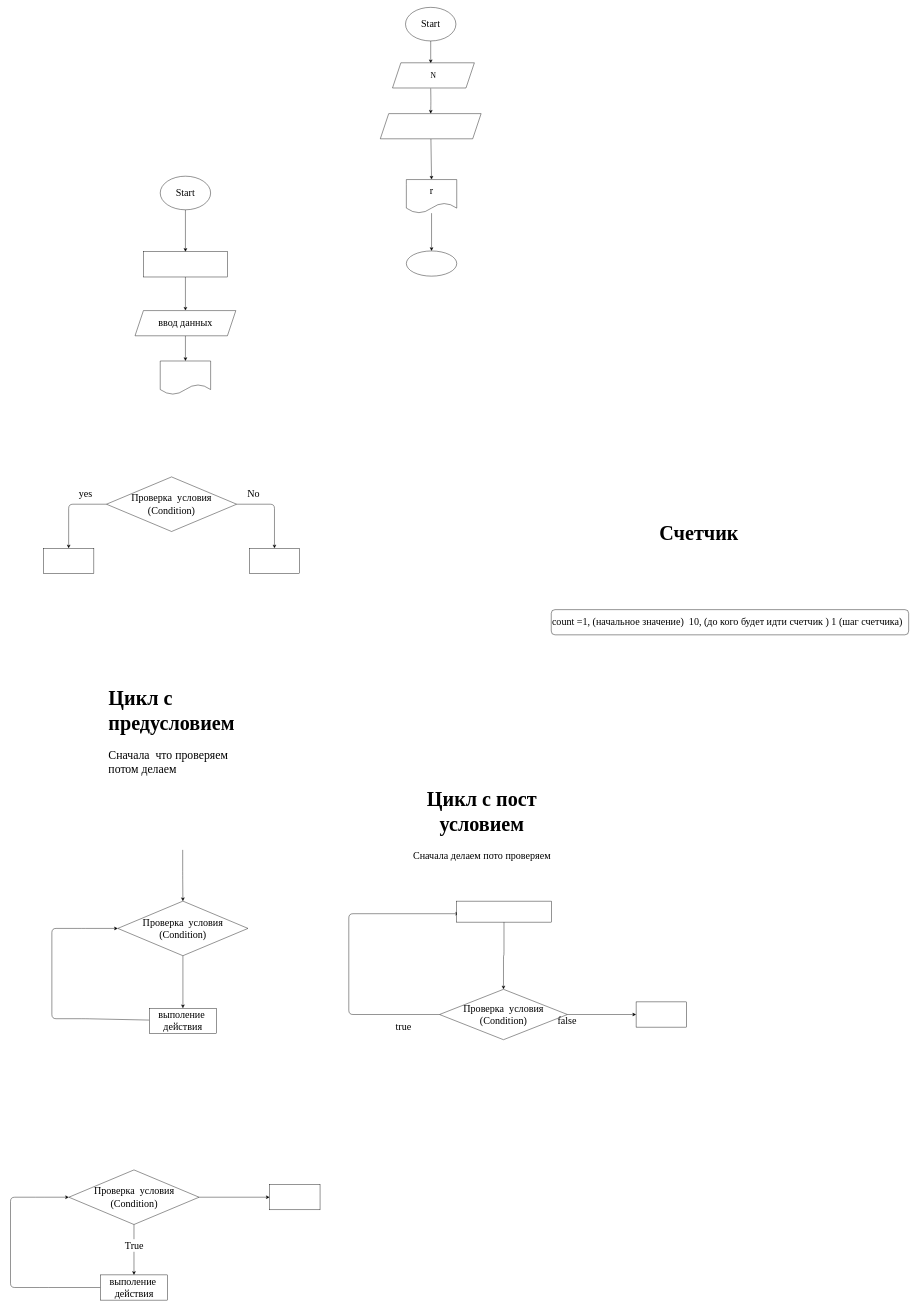
Some shapes in this 916 by 1307 pixel diagram are drawn without their labels. Here are the shapes that lost their labels. From the top down, the box of each, then its label:
(380, 113, 481, 139): r=random(1, N)
(143, 251, 227, 277): Условие
(406, 251, 457, 276): End
(160, 361, 211, 395): результат
(456, 901, 551, 922): выполение условия
